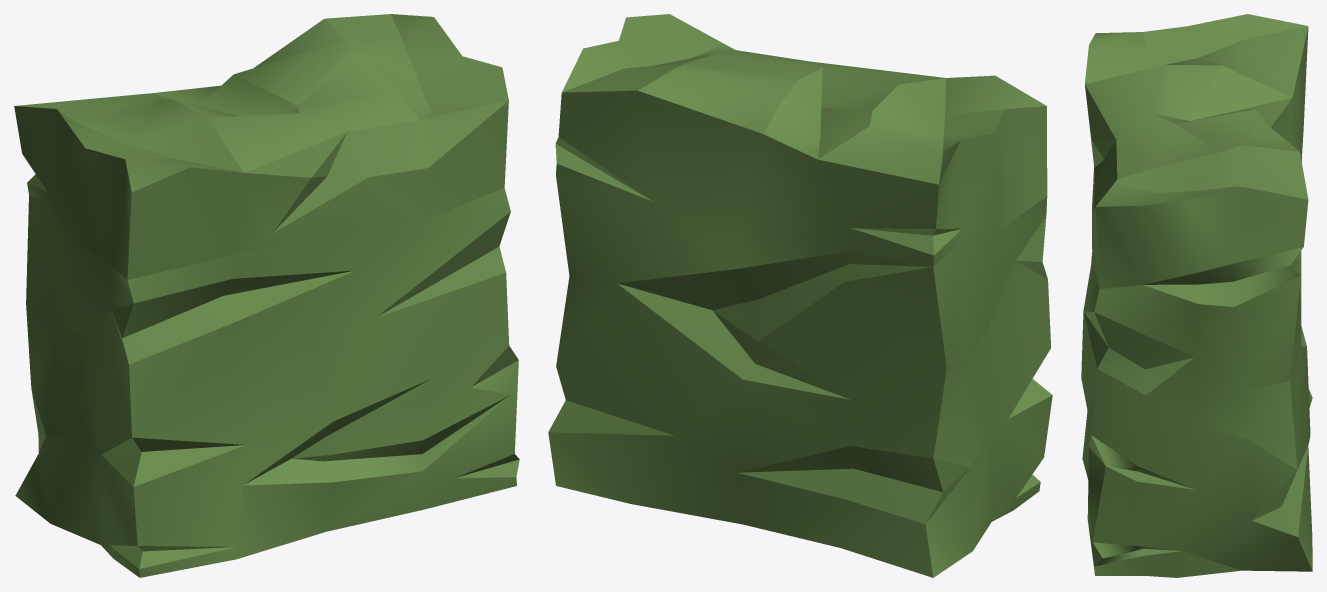
The model's file is Hedge_2.fbx.
3 views of the same model, side by side, from view 1: azimuth 30°, elevation 25°; view 2: azimuth 150°, elevation 25°; view 3: azimuth 270°, elevation 25° (orthographic). The views are drawn at different scales.
Parts seen in each view (by area): view 1: Hedge_2; view 2: Hedge_2; view 3: Hedge_2.
Boxes of the visible parts, x1,y1,x2,y2 form: Hedge_2: (14, 14, 519, 577); Hedge_2: (548, 14, 1052, 577); Hedge_2: (1081, 14, 1312, 577).
Size of the model in its own units: 48.87 by 47.27 by 25.54.
